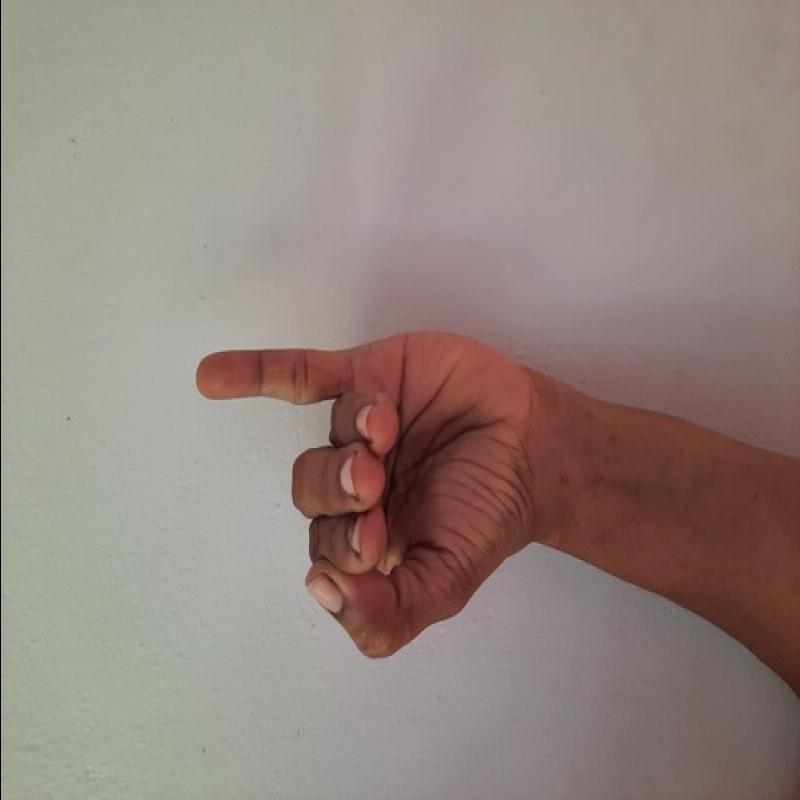Kartharee Mukham: (185, 306, 542, 667)
